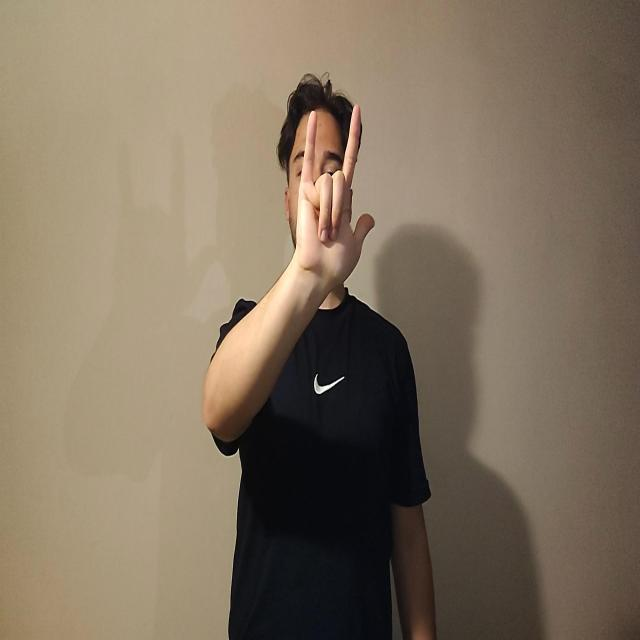iloveyou: (294, 102, 375, 290)
